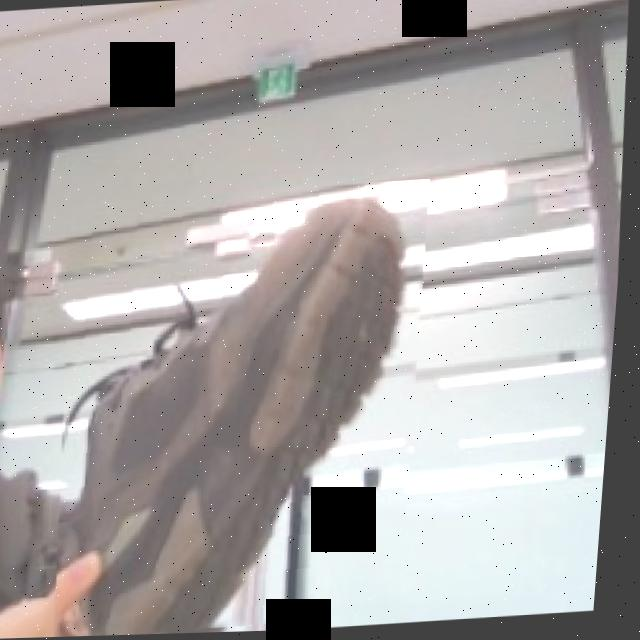shoe: (49, 180, 448, 638)
